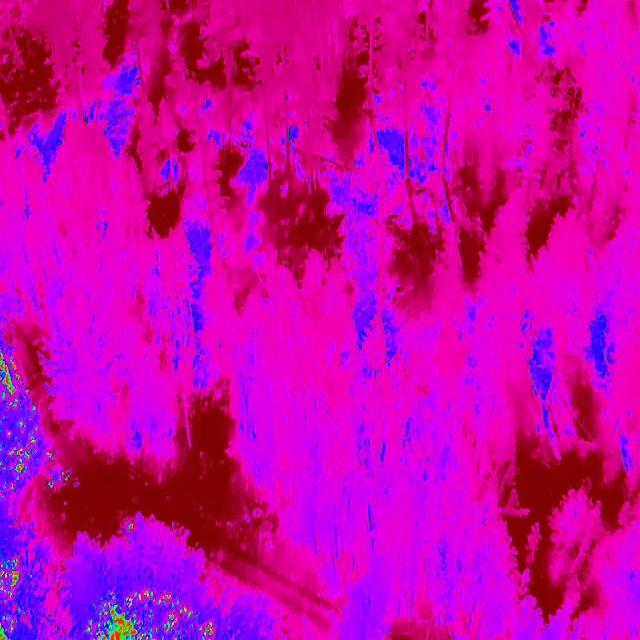fire: (80, 589, 216, 640), (0, 345, 44, 499), (0, 555, 35, 640), (43, 446, 72, 496)
